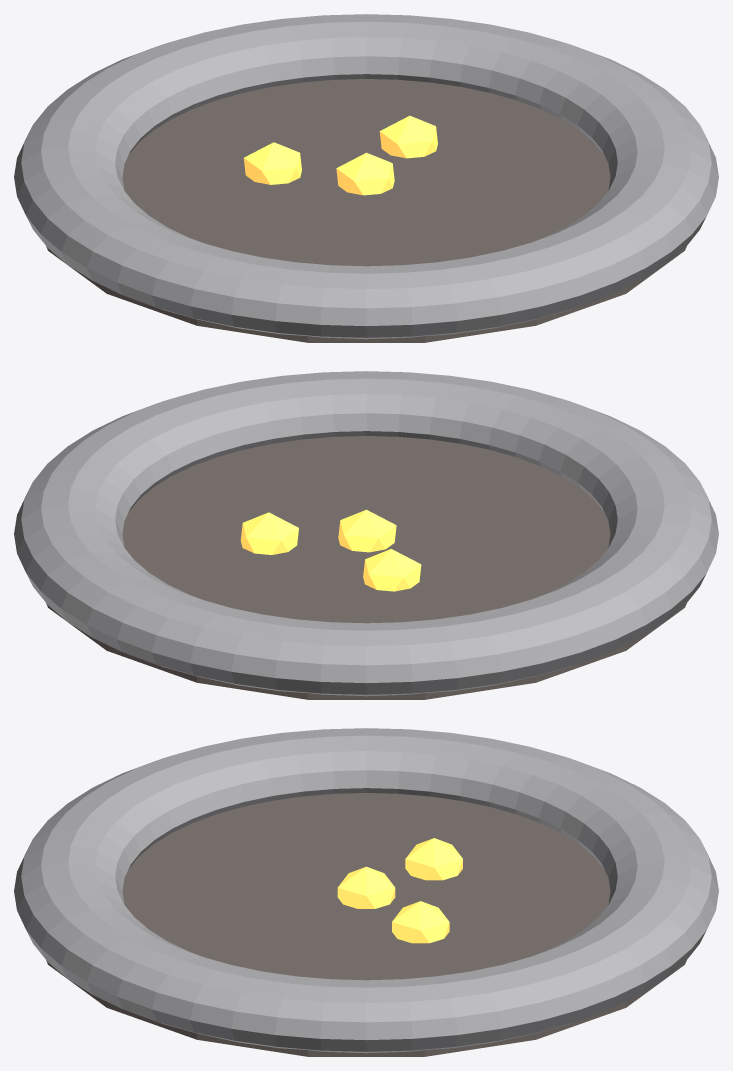
File: crater.glb
3 renders of one model, top to bottom at view 1: azimuth 30°, elevation 25°; view 2: azimuth 150°, elevation 25°; view 3: azimuth 270°, elevation 25°, orthographic.
Visible parts, largest first — view 1: crater; view 2: crater; view 3: crater.
Boxes of the visible parts, left/top/right/bottom form: crater: left=14, top=14, right=718, bottom=342; crater: left=14, top=371, right=718, bottom=699; crater: left=14, top=728, right=718, bottom=1056.
Bounding box in the file's own units: 1.04 × 0.108 × 1.04.
